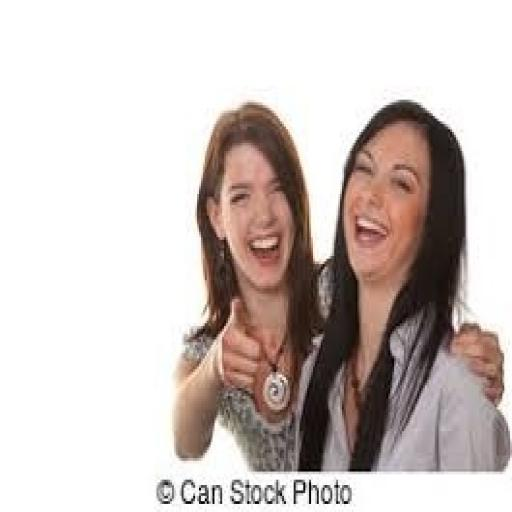laughing: (166, 89, 510, 469)
